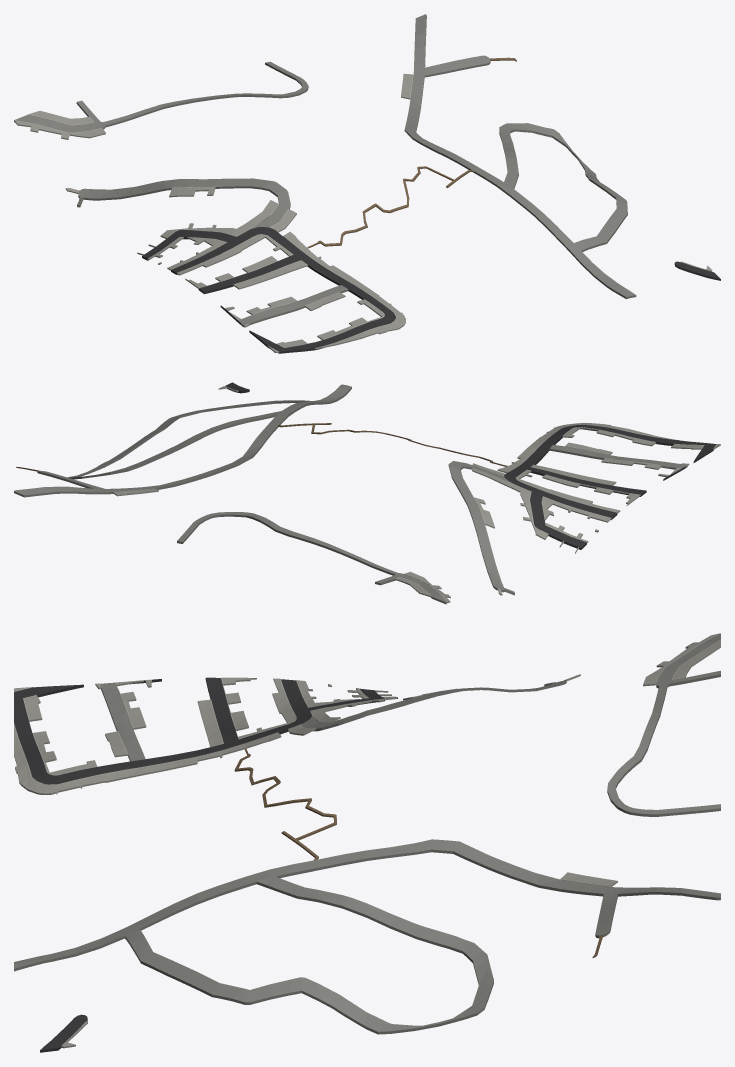
3 views of the same model, one above another, from view 1: azimuth 30°, elevation 25°; view 2: azimuth 150°, elevation 25°; view 3: azimuth 270°, elevation 25° (orthographic). The views are drawn at different scales.
Size of the model in its own units: 294 by 57.49 by 292.
